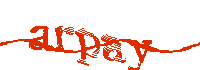a: (100, 33, 126, 63), (27, 25, 53, 52)
p: (76, 26, 99, 68)
r: (54, 24, 73, 54)
y: (125, 37, 153, 70)
